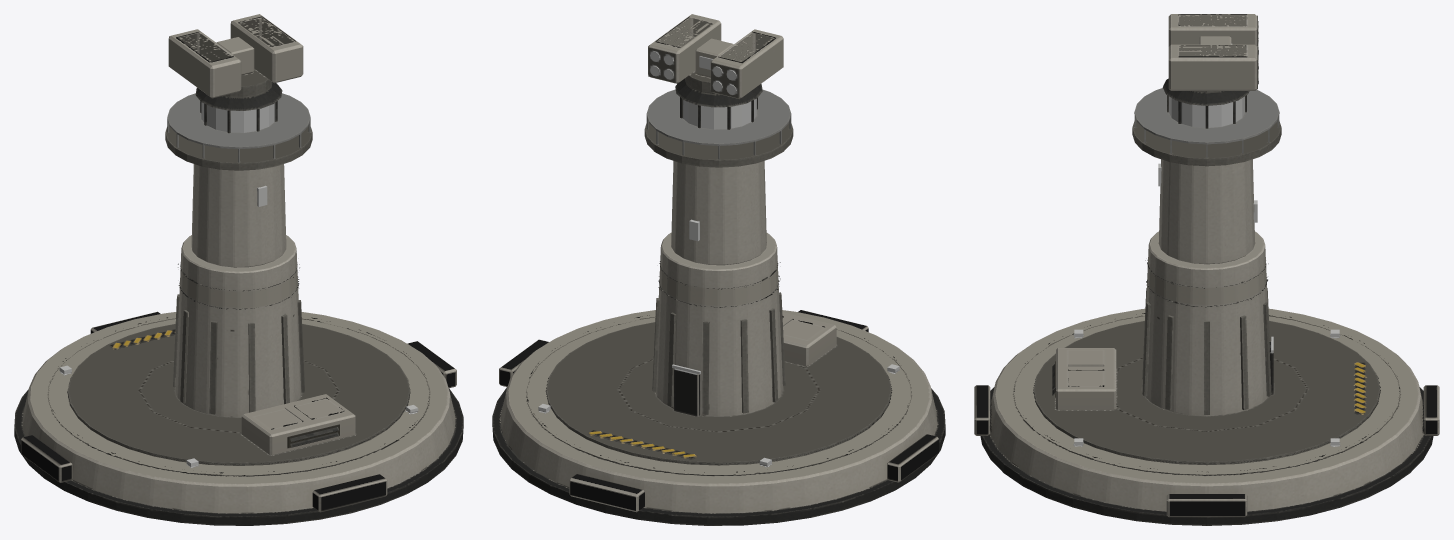
Rendered from ord_pharos.fbx.
3 renders of one model, left to right at view 1: azimuth 30°, elevation 25°; view 2: azimuth 150°, elevation 25°; view 3: azimuth 270°, elevation 25°, orthographic.
Parts seen in each view (by area): view 1: base_bar, launcher_bar, base_glow_power_bar; view 2: base_bar, launcher_bar, base_glow_power_bar, launcher_glow_weapon_bar; view 3: base_bar, launcher_bar, base_glow_power_bar.
Boxes of the visible parts, x1,y1,x2,y2 form: base_bar: [14, 82, 463, 525]; launcher_bar: [168, 14, 303, 98]; base_glow_power_bar: [201, 102, 274, 132]; base_bar: [492, 78, 945, 525]; launcher_bar: [648, 14, 783, 98]; base_glow_power_bar: [682, 99, 756, 129]; launcher_glow_weapon_bar: [650, 51, 736, 94]; base_bar: [974, 78, 1439, 525]; launcher_bar: [1168, 14, 1257, 92]; base_glow_power_bar: [1169, 96, 1244, 127].
Bounding box in the file's own units: 2310 × 2315 × 2310.
Materials: 2 (2 with a texture image).
